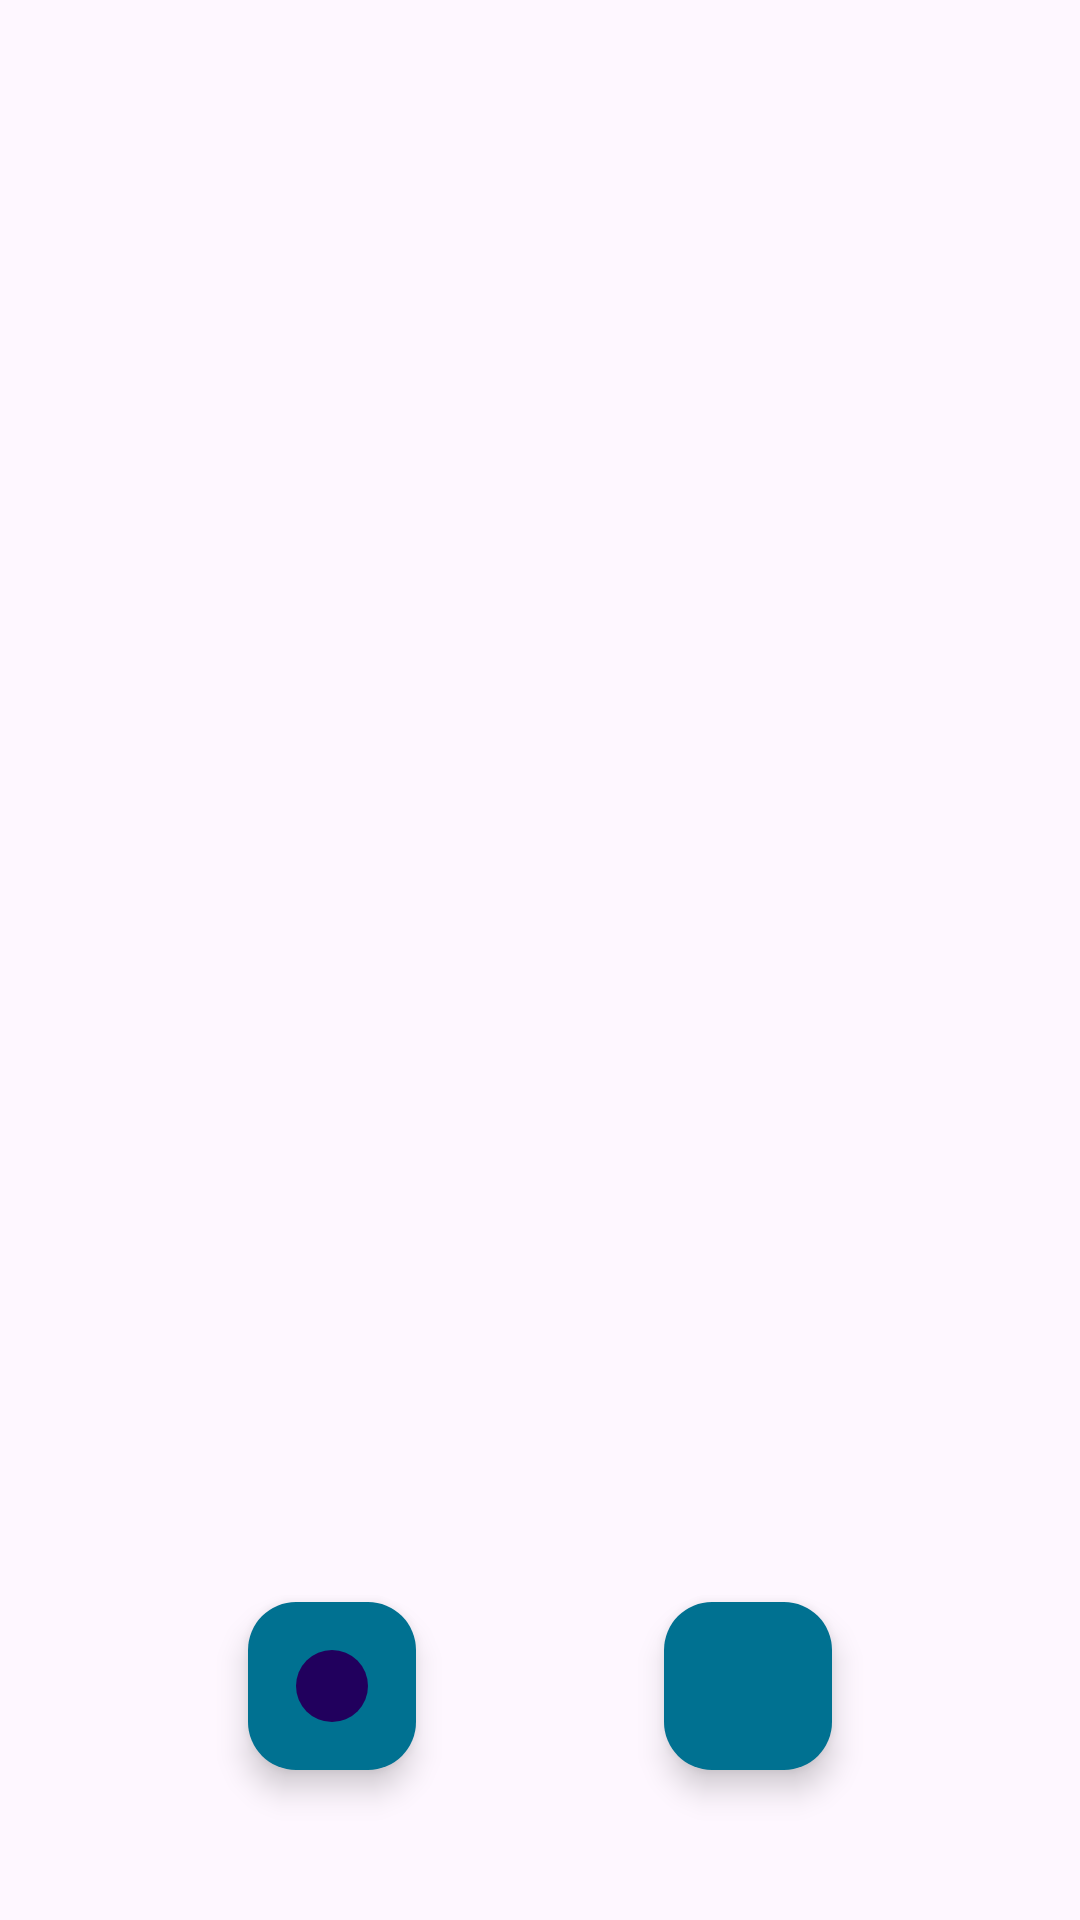

Icon click points for this 1080px x 1920px phone screenshot, format (x,y):
recording: (332,1686)
